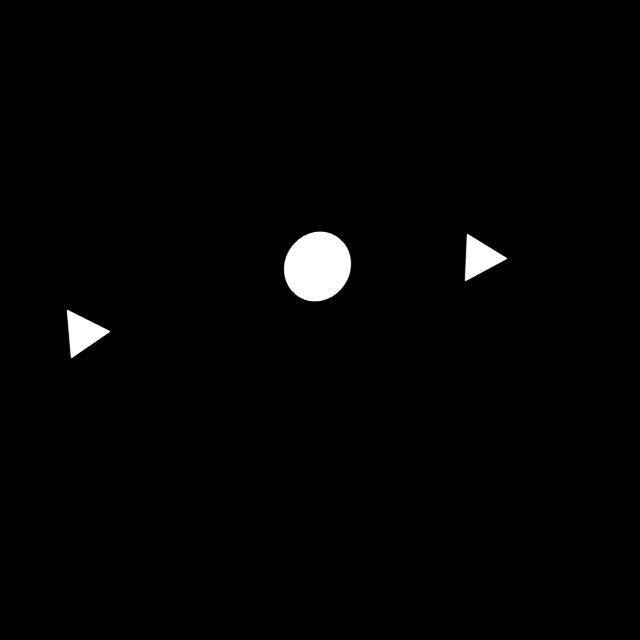Circle: (274, 219, 358, 313)
Triangle: (49, 303, 118, 370), (452, 225, 517, 295)
